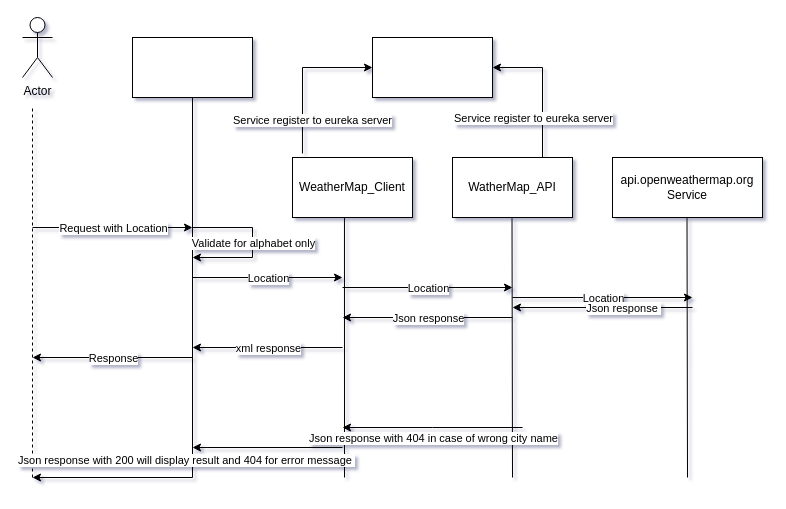
The diagram is 786 pixels wide and 509 high, and some of its shapes have lost their labels. The shapes that lost their labels are listed below. From the top down, each one's box as (x1, y1, x2, y2) in pixels, then its label:
(132, 36, 252, 98): Weather UI React / Html
(372, 36, 492, 98): Eureka serve Service registry
